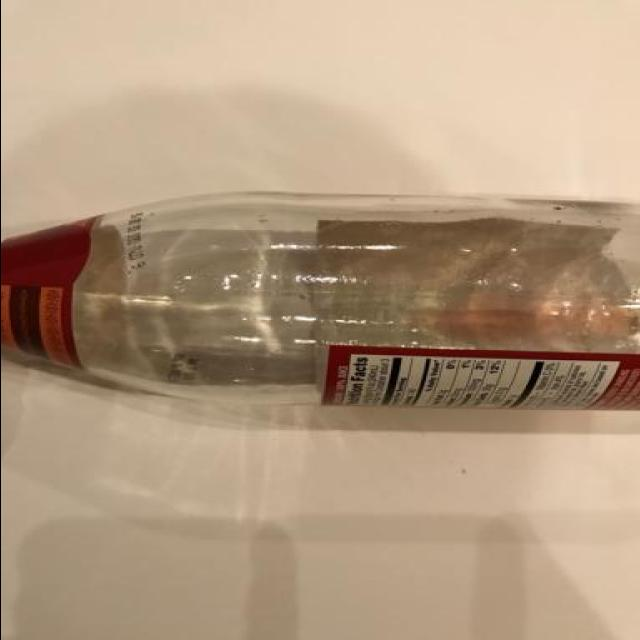litter: (0, 191, 640, 414)
